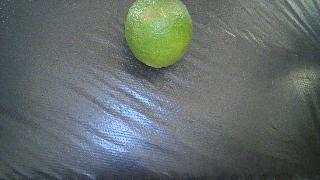DESECHO: (125, 0, 193, 68)
